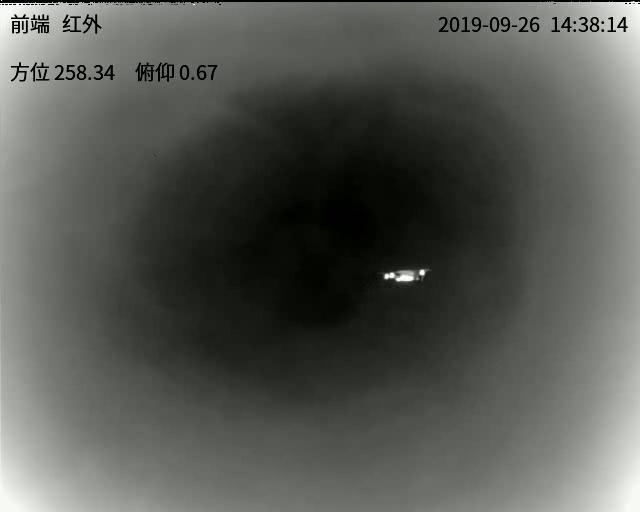DRONE: (382, 266, 429, 284)
